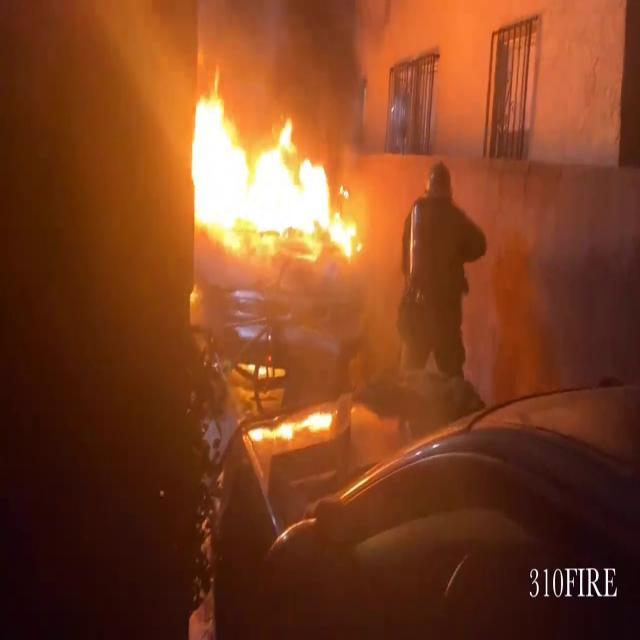Fire: (179, 77, 368, 260)
